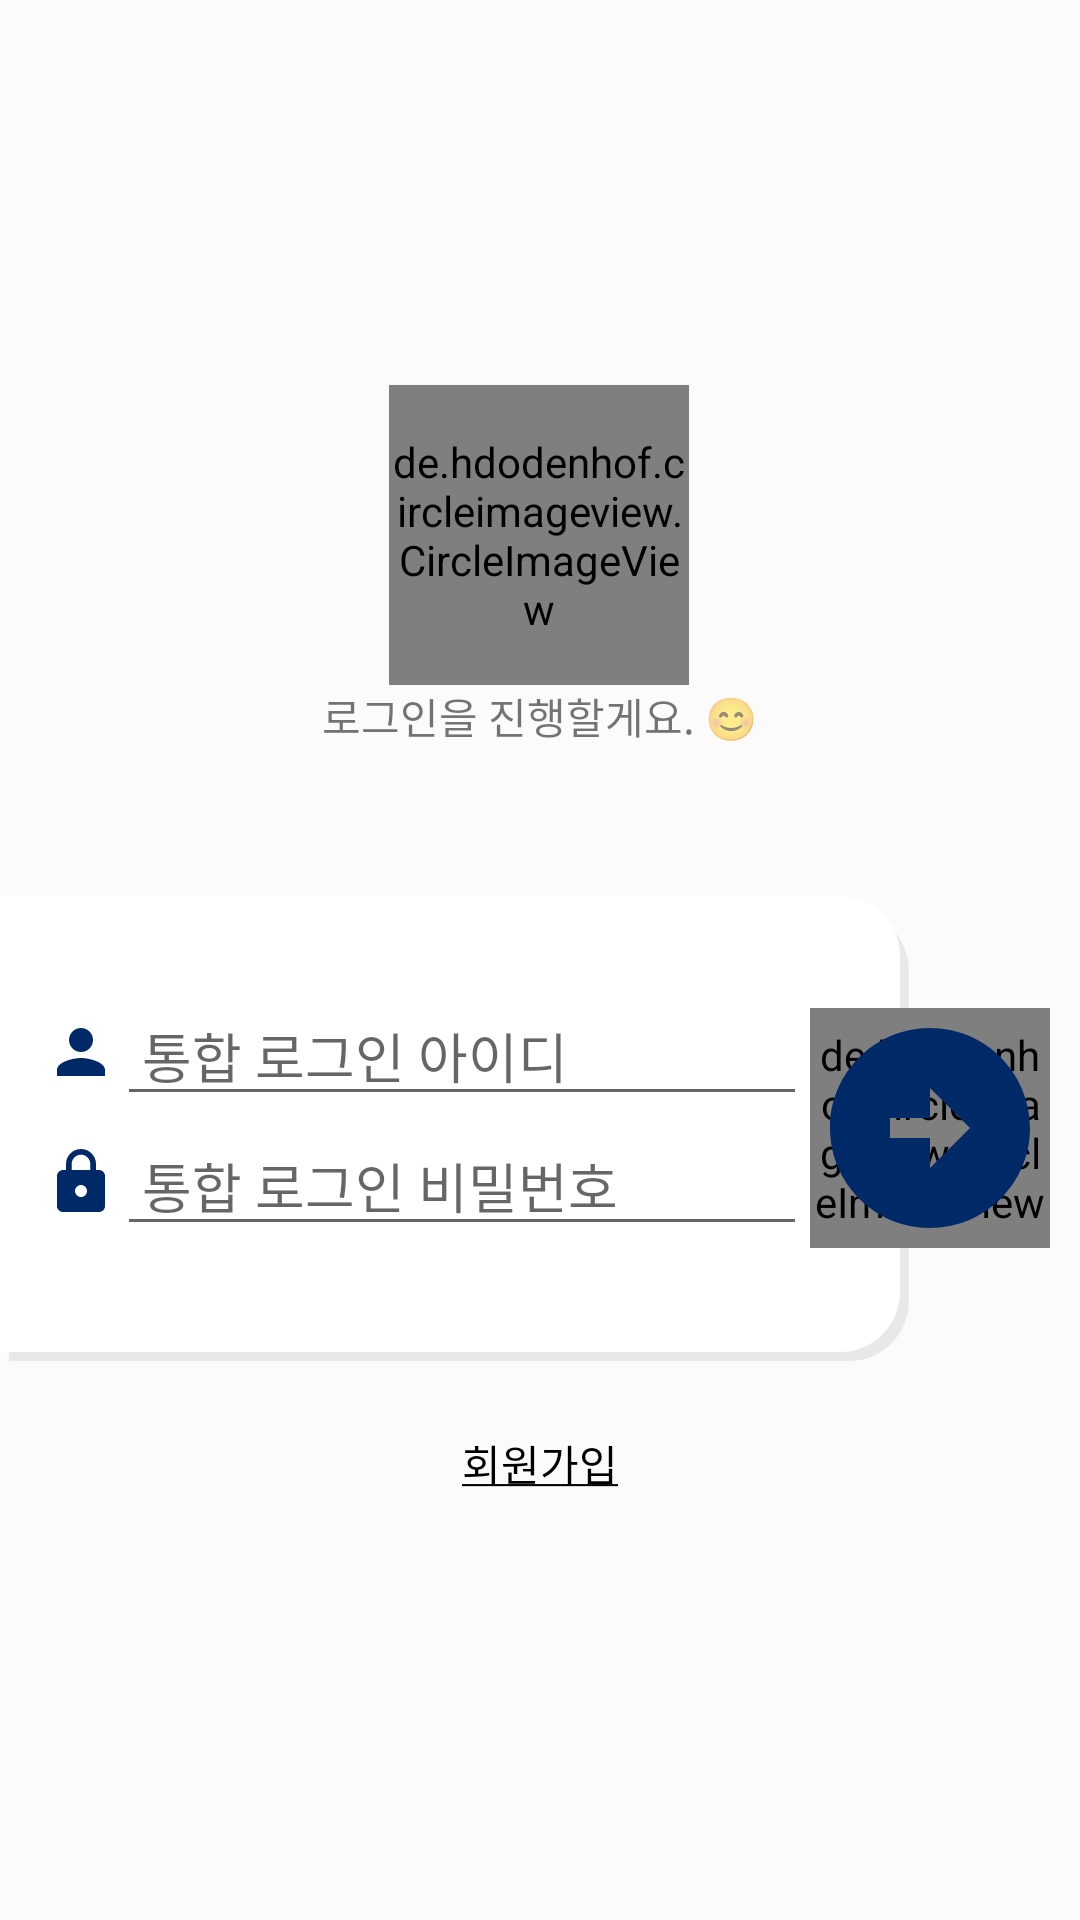

Screen size 1080px×1920px. Icon name, then its box in pixels as (x1, y1, x2, y2):
lock: (57, 1149, 105, 1212)
person: (57, 1028, 105, 1076)
